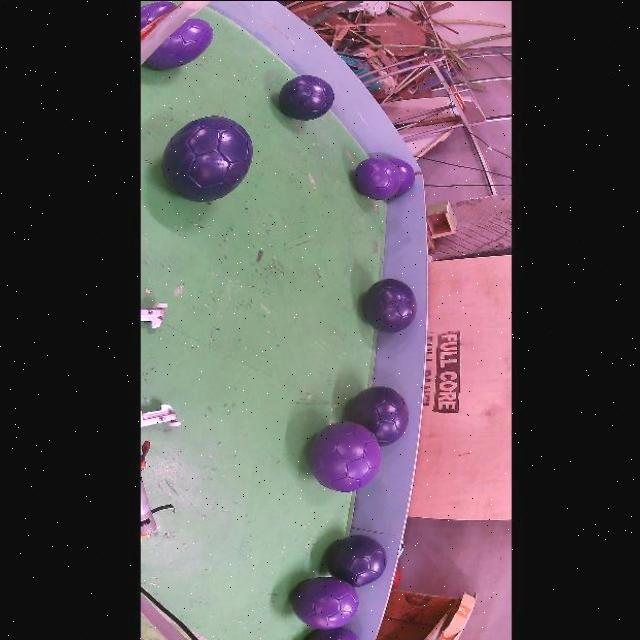B: (161, 115, 252, 201), (346, 386, 408, 445), (327, 534, 386, 586), (363, 279, 416, 332), (279, 75, 333, 119)
P: (309, 421, 380, 492), (292, 575, 359, 628), (145, 17, 212, 68), (354, 157, 399, 199), (140, 0, 175, 27), (390, 157, 415, 194), (306, 627, 360, 640)
